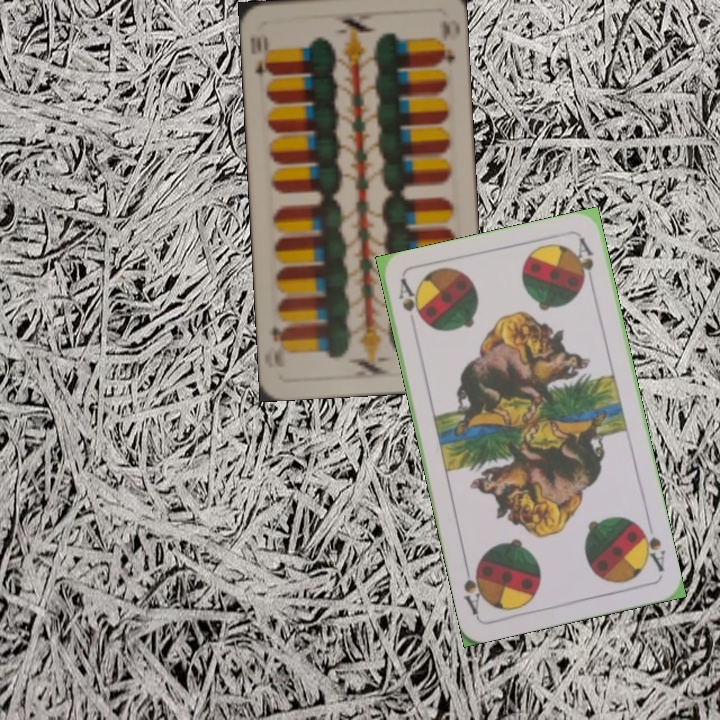E10: (247, 32, 276, 80)
SA: (634, 520, 668, 575), (394, 275, 425, 324)
